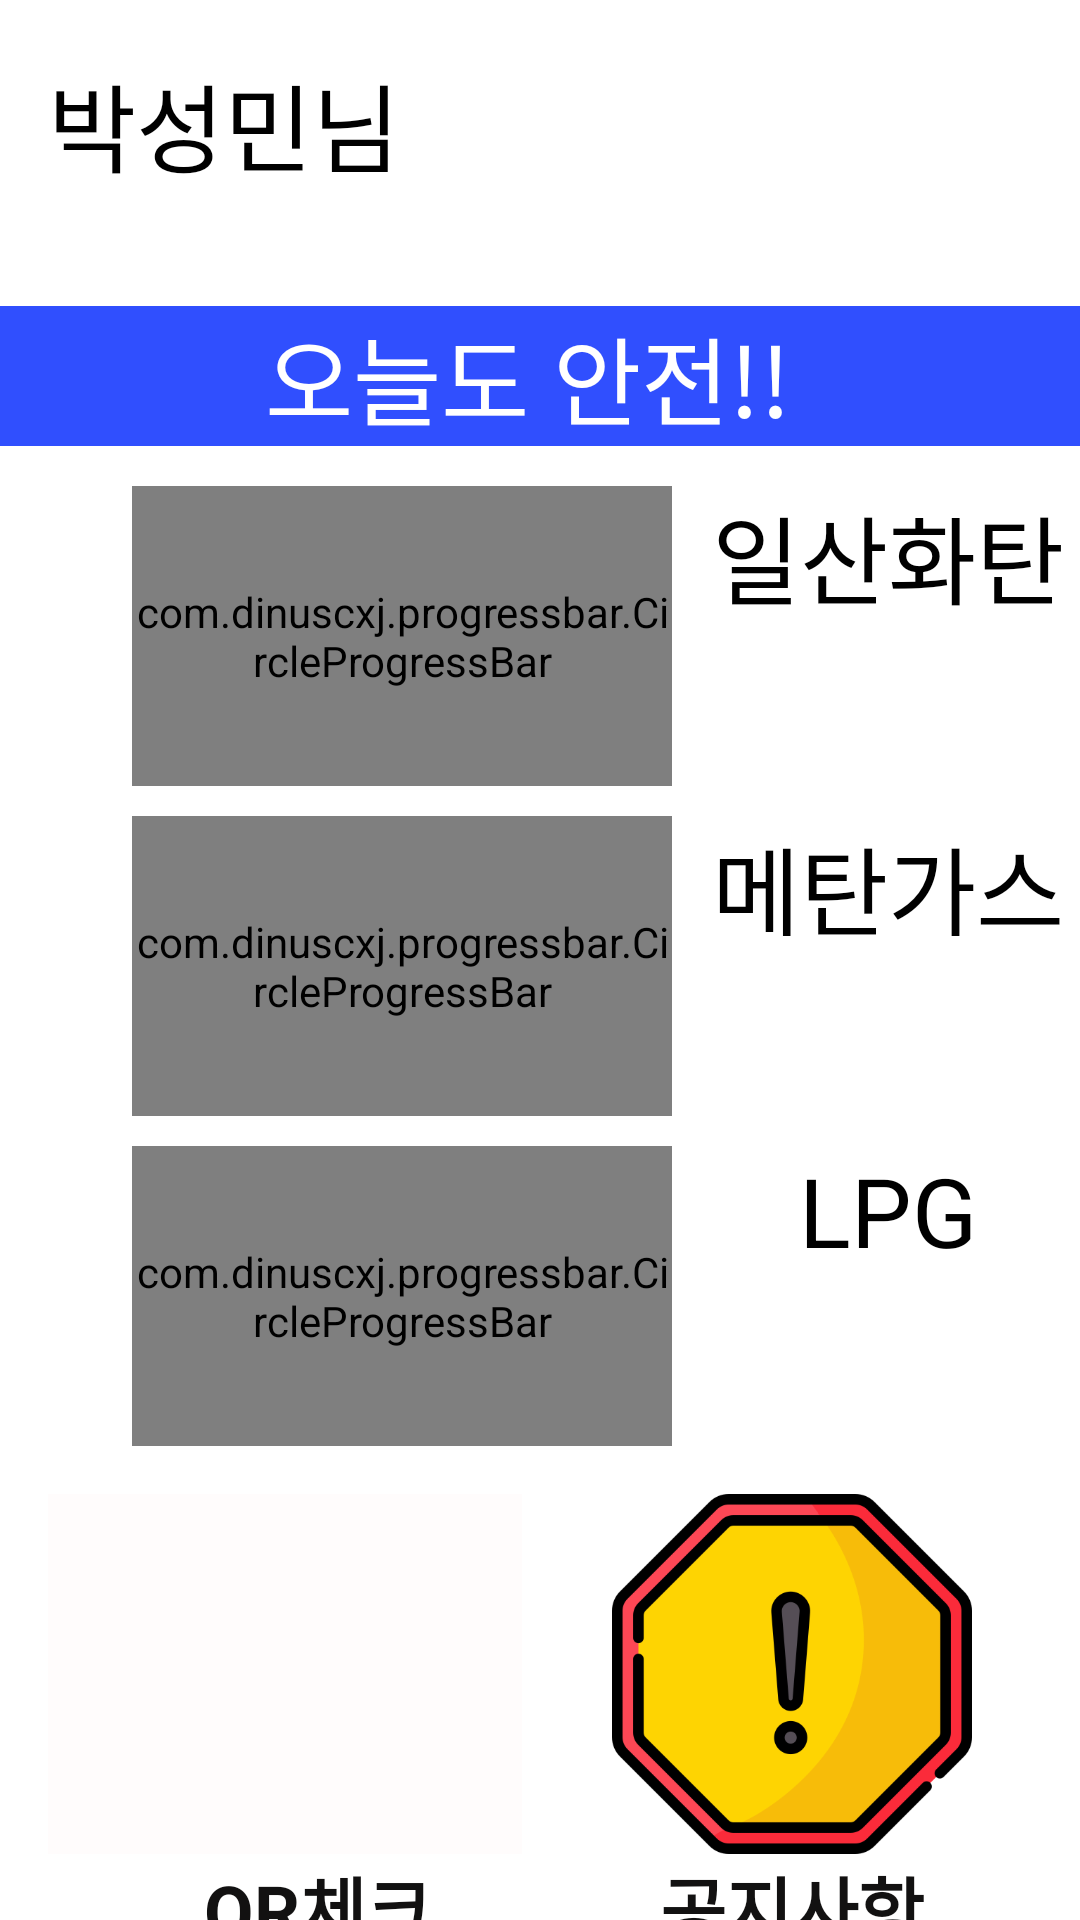

Icons on this 1080px×1920px Android screen, each with its box as (x1, y1, x2, y2):
warningy: (612, 1494, 972, 1854)
